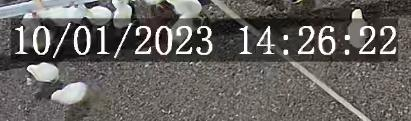chick: (167, 11, 196, 40), (51, 82, 89, 104), (348, 9, 368, 49), (25, 62, 59, 82), (87, 5, 111, 24), (114, 5, 133, 26)
